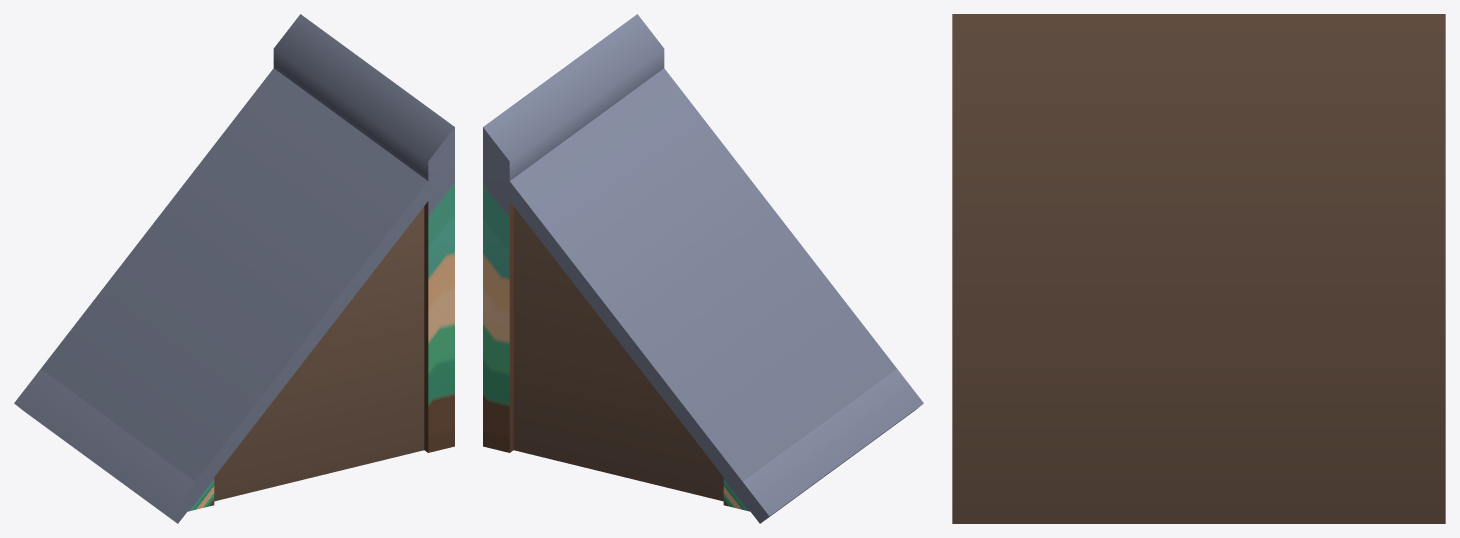
Rendered from roof-high.glb.
The picture shows the model from 3 angles, left to right: view 1: azimuth 30°, elevation 25°; view 2: azimuth 150°, elevation 25°; view 3: azimuth 270°, elevation 25°; orthographic projection. The views are drawn at different scales.
Parts seen in each view (by area): view 1: roof-high; view 2: roof-high; view 3: roof-high.
Boxes of the visible parts, left/top/right/bottom form: roof-high: left=14, top=14, right=454, bottom=523; roof-high: left=483, top=14, right=923, bottom=523; roof-high: left=952, top=14, right=1445, bottom=523.
Size of the model in its own units: 1.07 by 1.18 by 1.
1 material, 1 textured.
